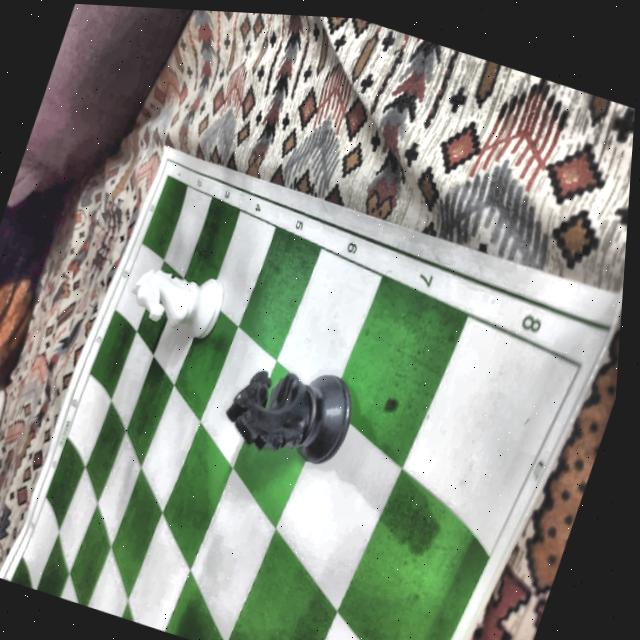BlackKnight: (214, 344, 364, 477)
WhiteKnight: (121, 250, 233, 344)
